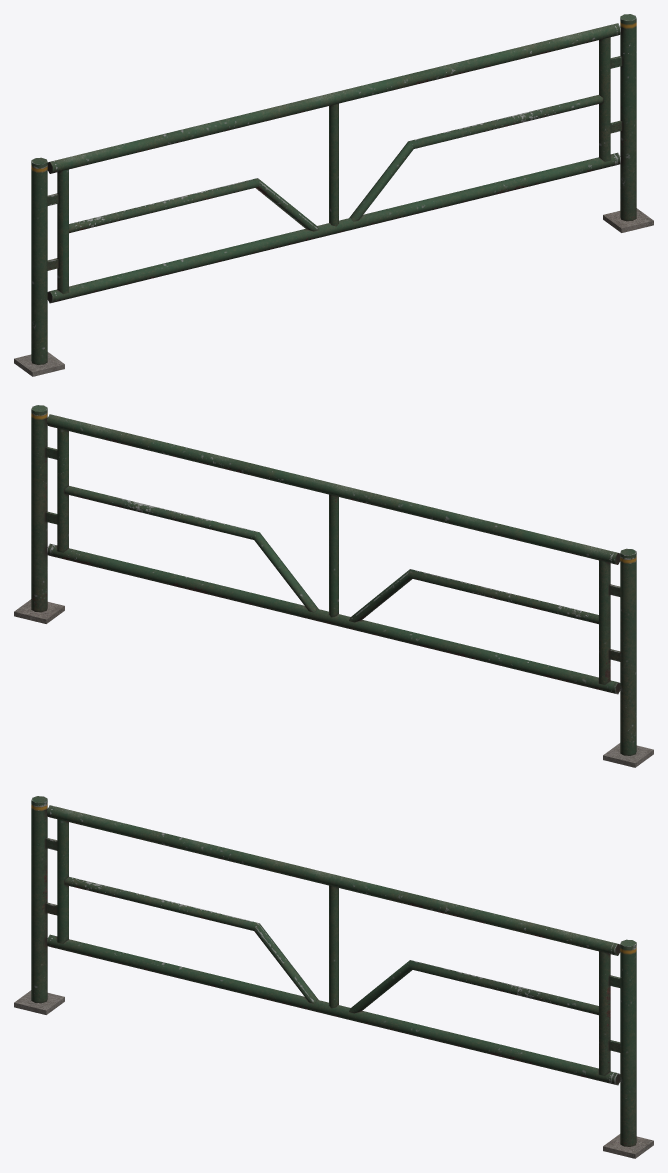
Rendered from jctGuardRailA.fbx.
3 renders of one model, top to bottom at view 1: azimuth 30°, elevation 25°; view 2: azimuth 150°, elevation 25°; view 3: azimuth 330°, elevation 25°, orthographic.
Visible parts, largest first — view 1: jctGuardRailA; view 2: jctGuardRailA; view 3: jctGuardRailA.
Boxes of the visible parts, box(x1,y1,x2,y2) form: jctGuardRailA: box(14, 14, 653, 376); jctGuardRailA: box(14, 405, 653, 767); jctGuardRailA: box(14, 796, 653, 1158).
Bounding box in the file's own units: 211 × 66.5 × 11.
